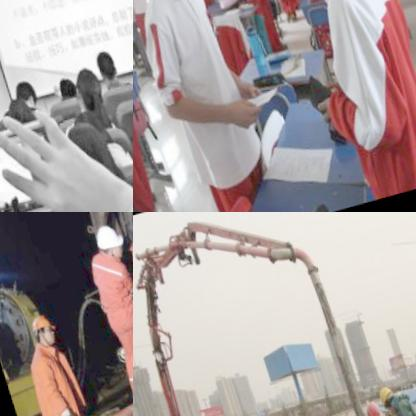head: (47, 111, 118, 202), (61, 62, 100, 119), (2, 77, 35, 117), (84, 46, 114, 88), (46, 72, 71, 107)
helmet: (87, 222, 123, 265), (24, 309, 56, 352), (370, 384, 396, 415), (356, 400, 380, 416)
